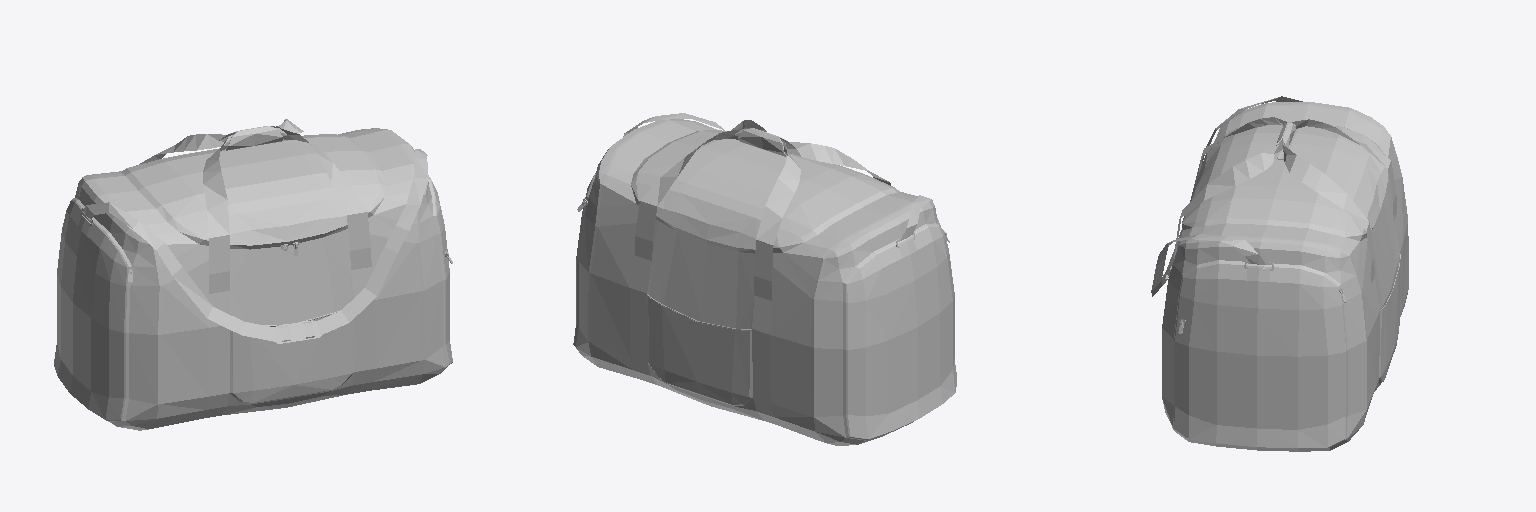
The model's file is Mochila.obj.
3 views of the same model, side by side, from view 1: azimuth 30°, elevation 25°; view 2: azimuth 150°, elevation 25°; view 3: azimuth 270°, elevation 25° (orthographic).
Parts seen in each view (by area): view 1: Mesh11 Group2 Bag1 Group1 Model, Mesh14 Group2 Bag1 Group1 Model, Mesh15 Group2 Bag1 Group1 Model; view 2: Mesh11 Group2 Bag1 Group1 Model, Mesh14 Group2 Bag1 Group1 Model, Mesh15 Group2 Bag1 Group1 Model; view 3: Mesh11 Group2 Bag1 Group1 Model, Mesh14 Group2 Bag1 Group1 Model.
Part boxes in pixels (x1,y1,x2,y2): Mesh11 Group2 Bag1 Group1 Model: (54, 119, 452, 430); Mesh14 Group2 Bag1 Group1 Model: (81, 149, 428, 341); Mesh15 Group2 Bag1 Group1 Model: (225, 126, 282, 150); Mesh11 Group2 Bag1 Group1 Model: (573, 119, 956, 445); Mesh14 Group2 Bag1 Group1 Model: (623, 113, 932, 247); Mesh15 Group2 Bag1 Group1 Model: (738, 128, 791, 156); Mesh11 Group2 Bag1 Group1 Model: (1162, 102, 1408, 451); Mesh14 Group2 Bag1 Group1 Model: (1151, 96, 1302, 296).
Size of the model in its own units: 1.61 by 1.13 by 1.05.